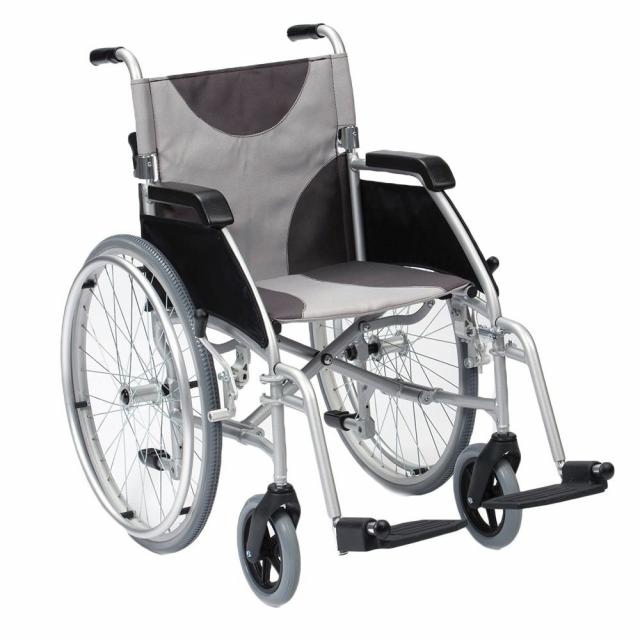wheelchair: (43, 10, 628, 618)
